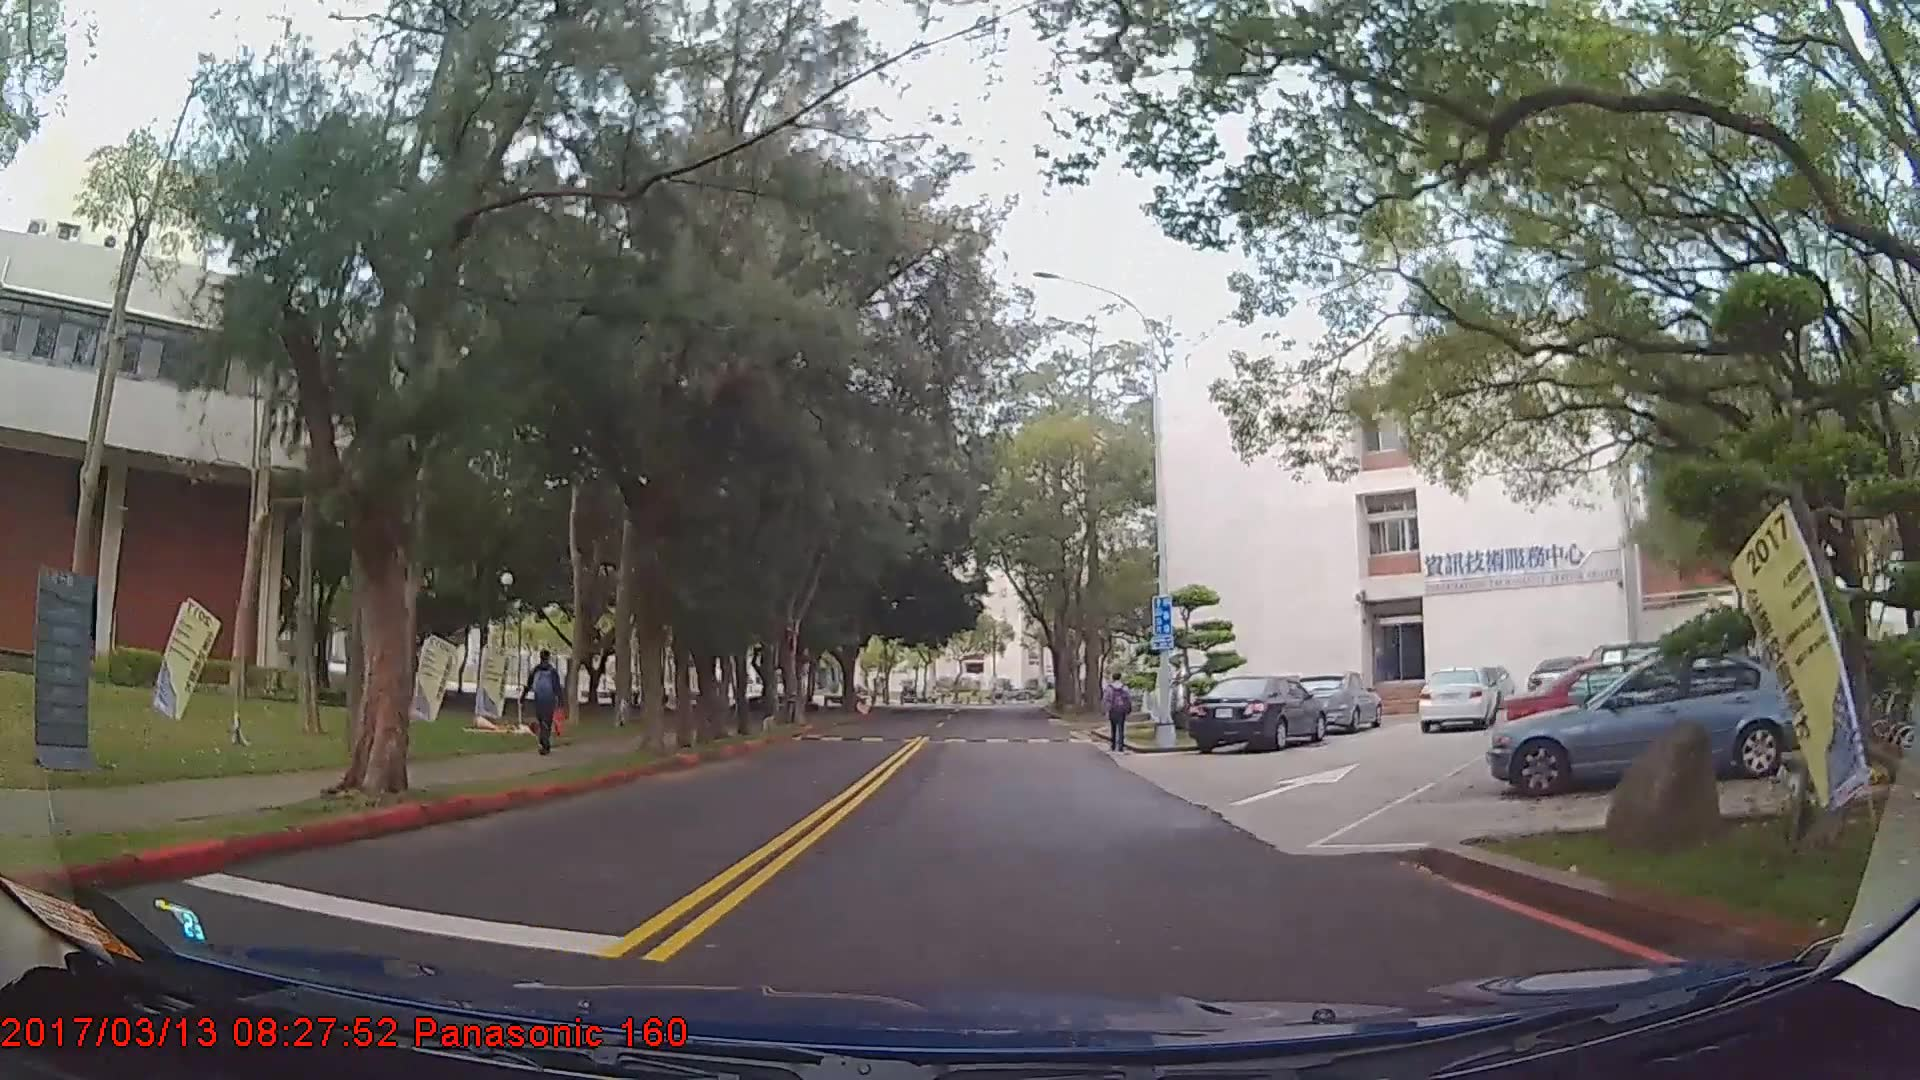pedestrian: (526, 648, 564, 758), (1103, 672, 1132, 755)
vehicle: (1487, 647, 1830, 797), (1187, 676, 1327, 757), (1291, 671, 1383, 733), (1413, 666, 1496, 734)
